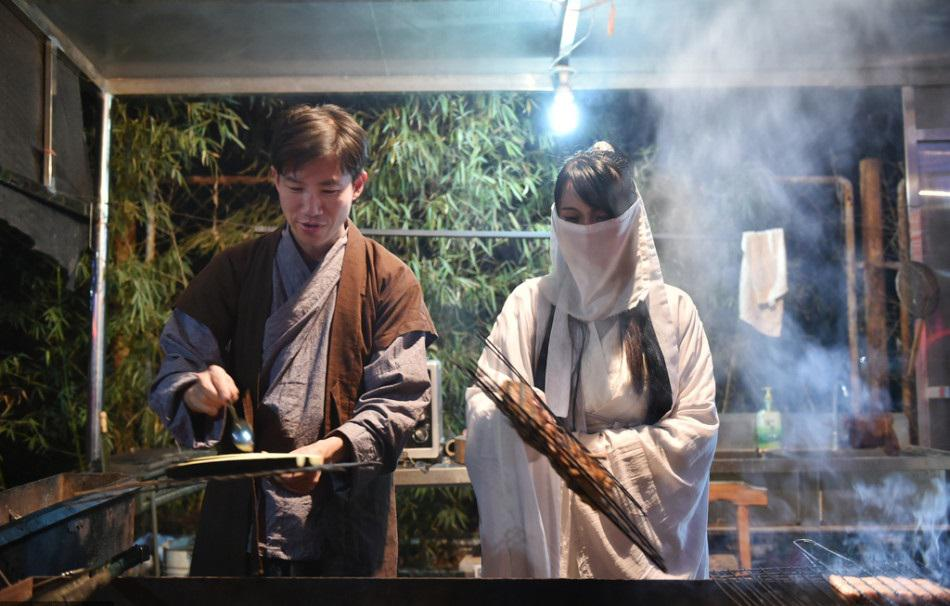NONE: (282, 167, 356, 244)
OK: (560, 197, 629, 271)
